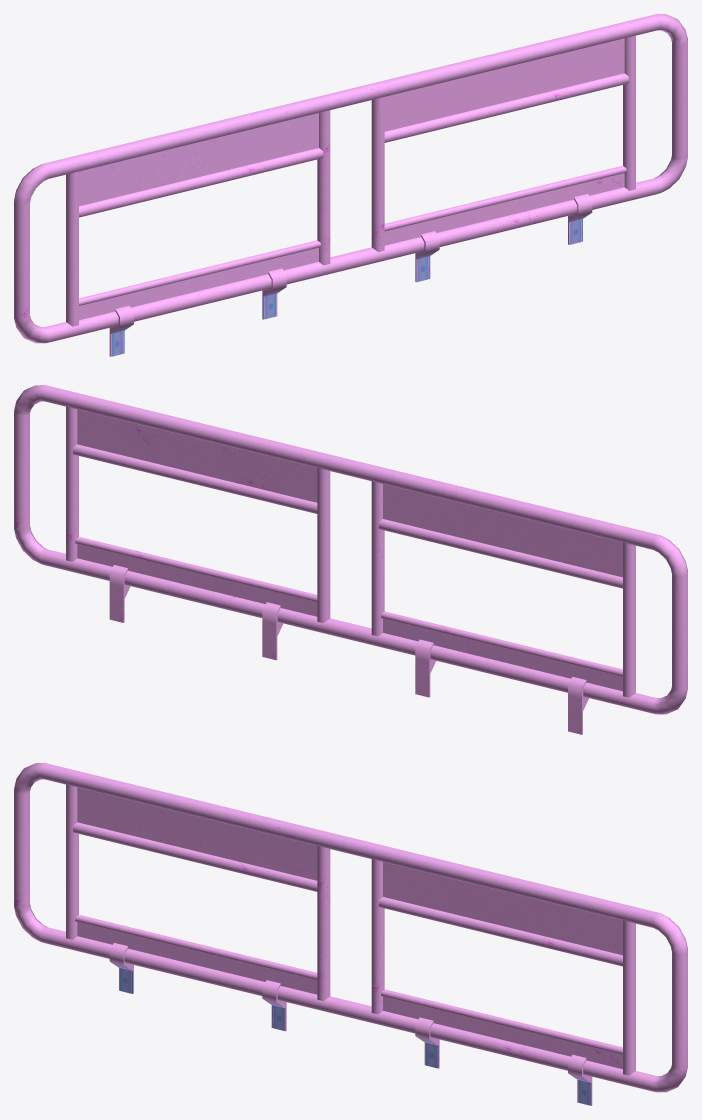
Rendered from Rail_02_SM_Low.fbx.
3 views of the same model, one above another, from view 1: azimuth 30°, elevation 25°; view 2: azimuth 150°, elevation 25°; view 3: azimuth 330°, elevation 25° (orthographic).
Parts seen in each view (by area): view 1: TwoLength; view 2: TwoLength; view 3: TwoLength.
Part boxes in pixels (x1=…): TwoLength: x1=14, y1=14, x2=687, y2=356; TwoLength: x1=14, y1=385, x2=687, y2=734; TwoLength: x1=14, y1=763, x2=687, y2=1105.
Bounding box in the file's own units: 366 × 111 × 9.76.
1 material, 1 textured.
